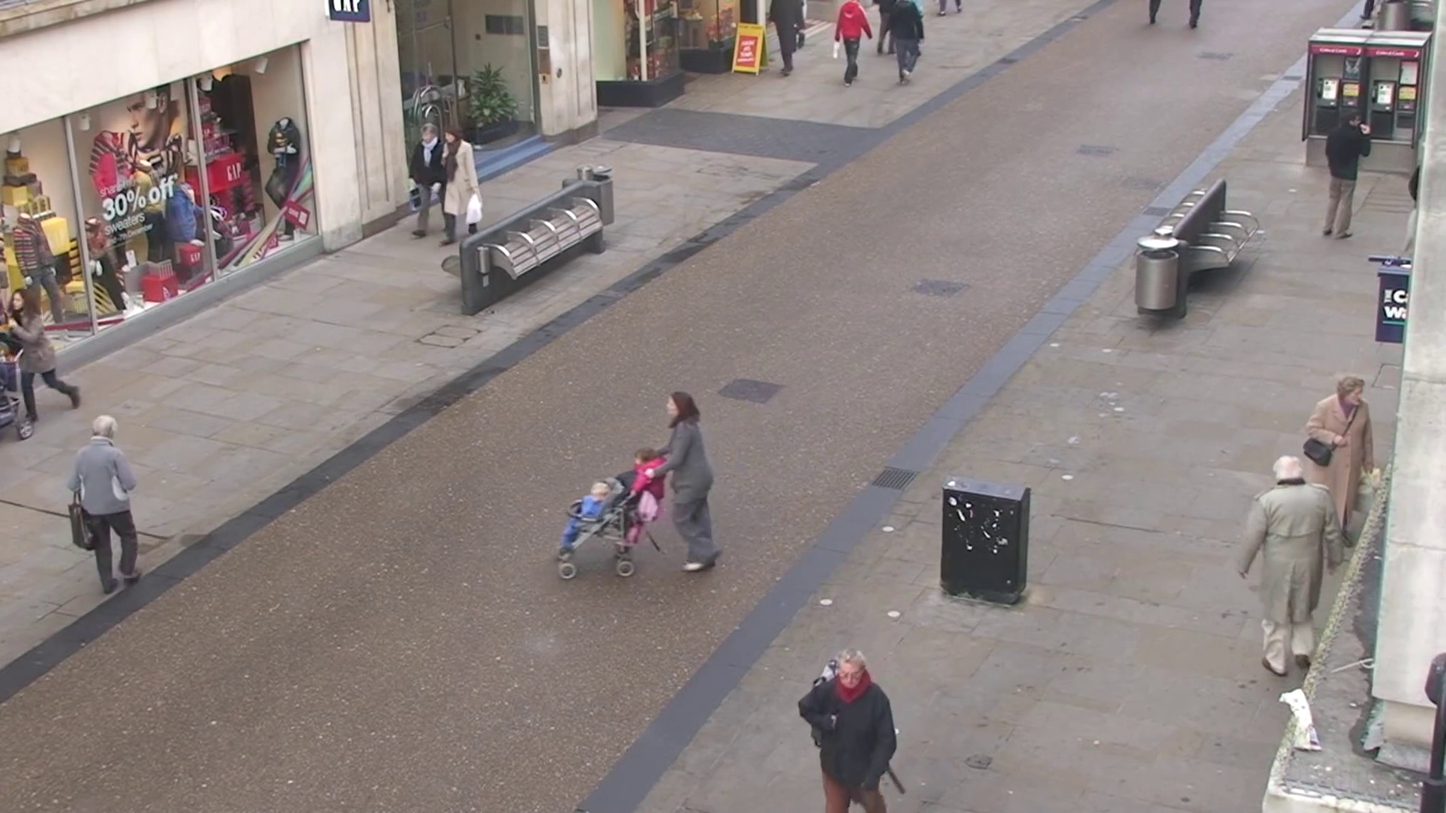person: (1238, 455, 1338, 681), (797, 650, 900, 813), (68, 416, 141, 595), (658, 390, 723, 574), (1302, 374, 1373, 540), (3, 291, 82, 416), (1321, 107, 1371, 239), (407, 125, 455, 239), (440, 129, 484, 252), (0, 318, 40, 440), (834, 0, 875, 86), (887, 0, 925, 83)
